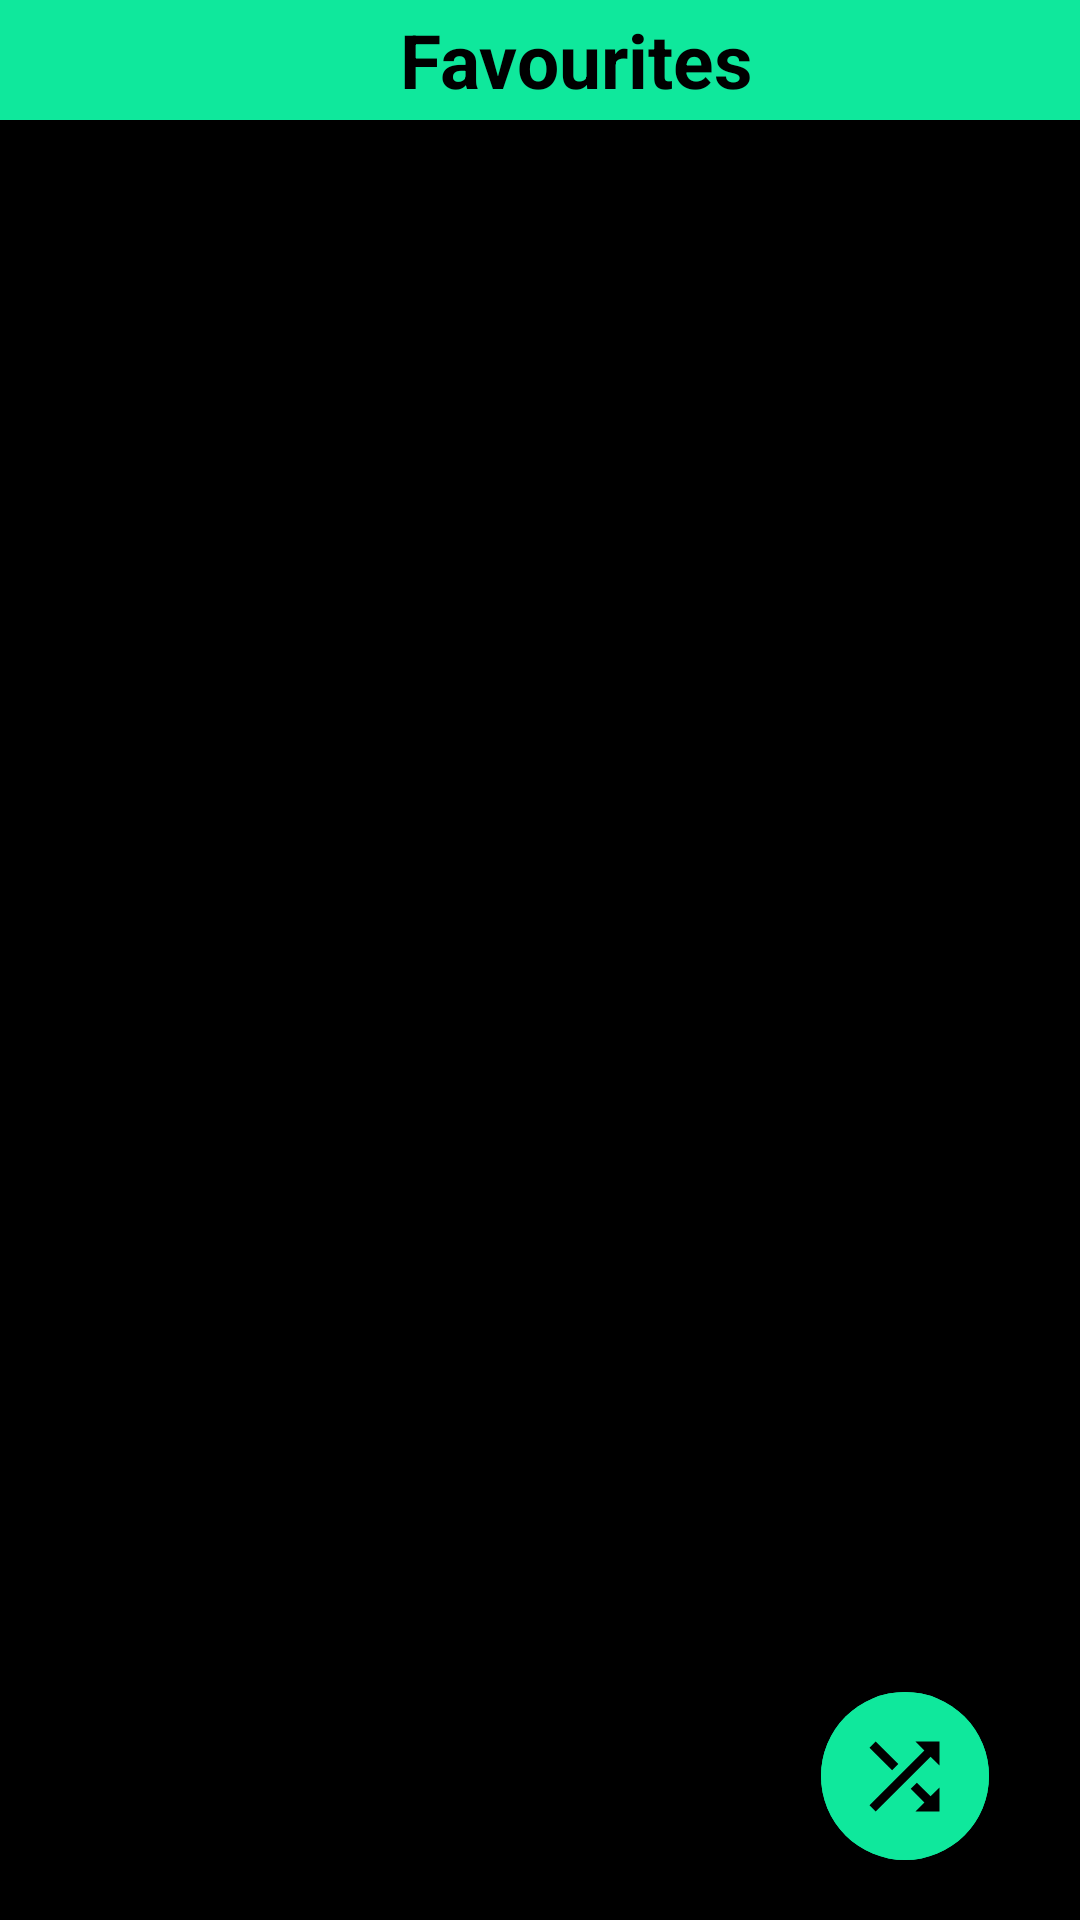

Icons on this 1080×1920 Android screen, each with its box as (x1, y1, x2, y2):
shuffle: (821, 1692, 989, 1860)
